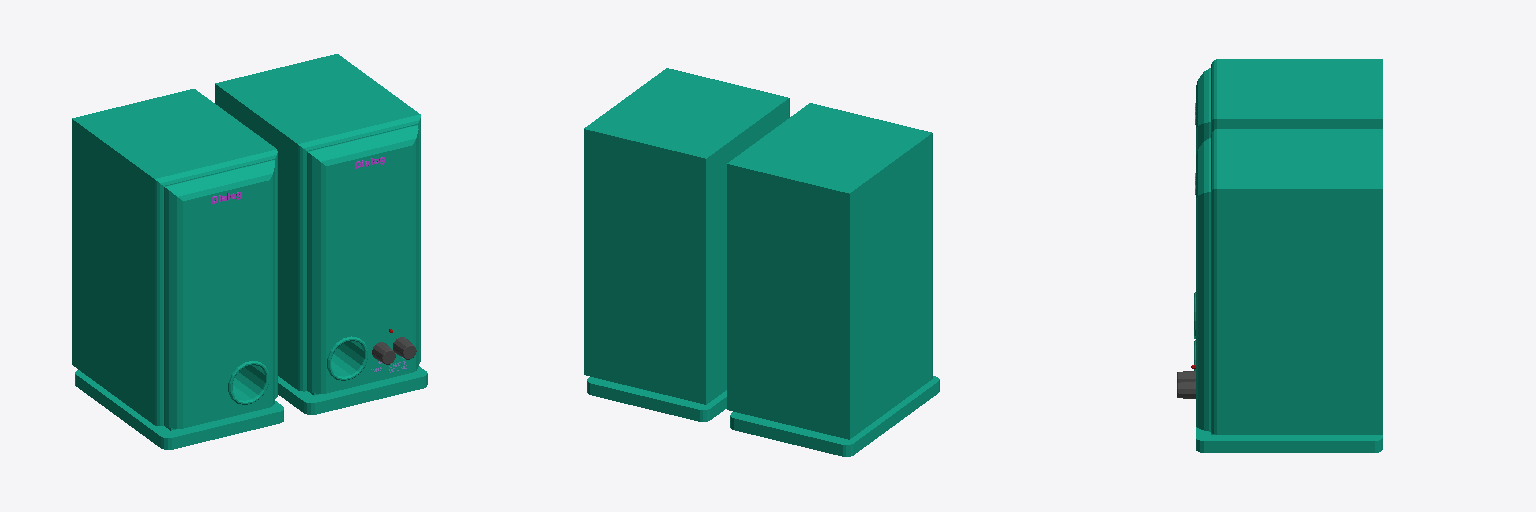
File: obj-type-model.obj
3 renders of one model, left to right at view 1: azimuth 30°, elevation 25°; view 2: azimuth 150°, elevation 25°; view 3: azimuth 270°, elevation 25°, orthographic.
Visible parts, largest first — view 1: Kolonka02, Kolonka01; view 2: Kolonka02, Kolonka01; view 3: Kolonka01, Kolonka02.
Part boxes in pixels (x1,y1,x2,y2): Kolonka02: (72,89,283,449); Kolonka01: (215,54,427,414); Kolonka02: (727,103,939,456); Kolonka01: (584,68,789,421); Kolonka01: (1194,129,1382,452); Kolonka02: (1194,59,1382,338).
Bounding box in the file's own units: 210 × 200 × 141.